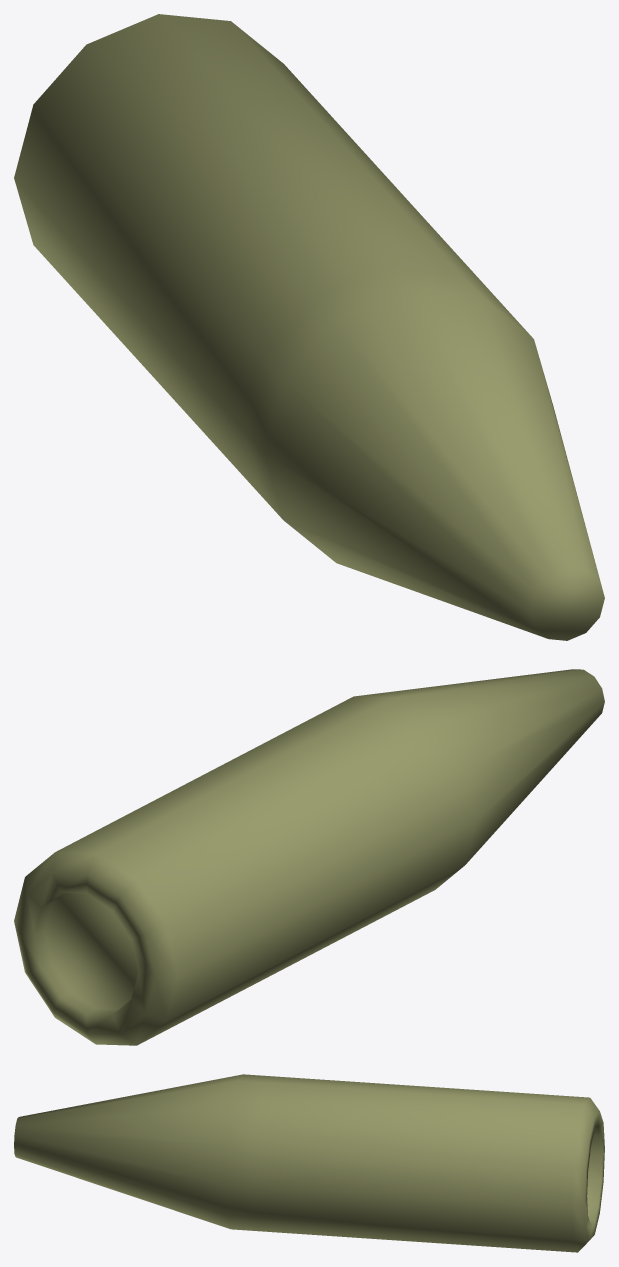
The model's file is Bullet.fbx.
3 renders of one model, top to bottom at view 1: azimuth 30°, elevation 25°; view 2: azimuth 150°, elevation 25°; view 3: azimuth 270°, elevation 25°, orthographic. The views are drawn at different scales.
Parts seen in each view (by area): view 1: Cylinder.006; view 2: Cylinder.006; view 3: Cylinder.006.
Boxes of the visible parts, x1,y1,x2,y2 form: Cylinder.006: (14, 14, 604, 640); Cylinder.006: (14, 669, 604, 1045); Cylinder.006: (14, 1074, 604, 1252).
Bounding box in the file's own units: 0.0301 × 0.0107 × 0.00796.
